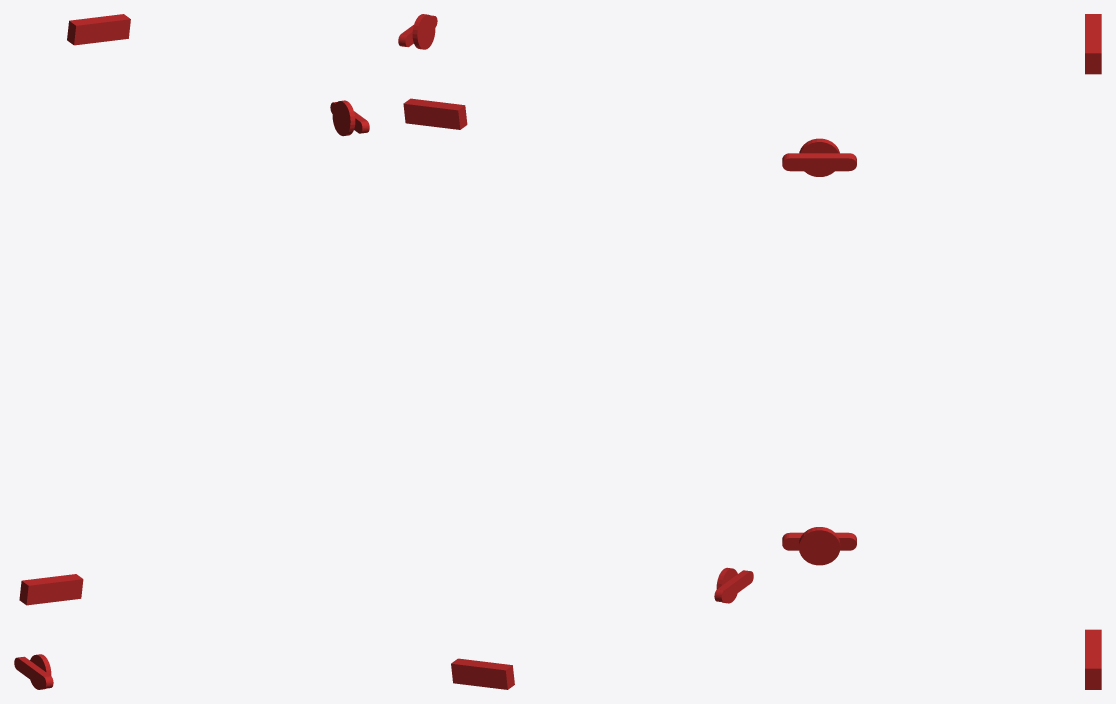
3 renders of one model, left to right at view 1: azimuth 30°, elevation 25°; view 2: azimuth 150°, elevation 25°; view 3: azimuth 270°, elevation 25°, orthographic. The views are drawn at different scales.
Parts seen in each view (by area): view 1: part_0000; view 2: part_0000; view 3: part_0000.
Boxes of the visible parts, left/top/right/bottom form: part_0000: left=14, top=14, right=369, bottom=689; part_0000: left=398, top=14, right=753, bottom=689; part_0000: left=782, top=14, right=1101, bottom=689.
Bounding box in the file's own units: 0.5298 × 0.895 × 0.385.
